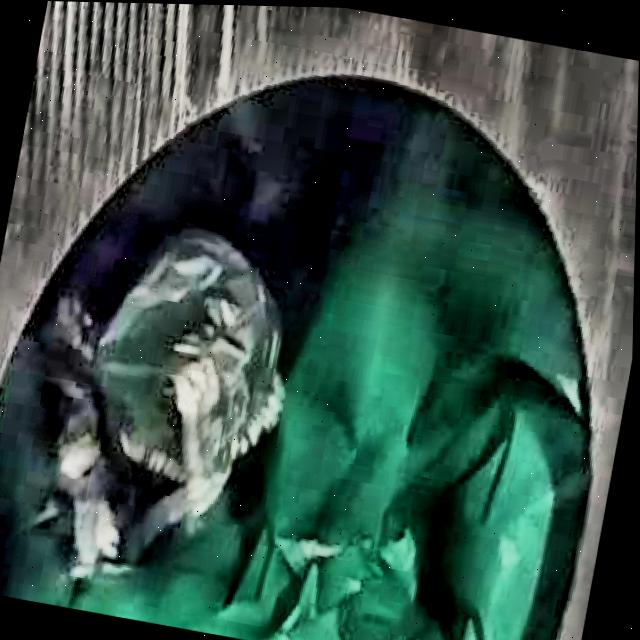plastic: (94, 230, 282, 512)
